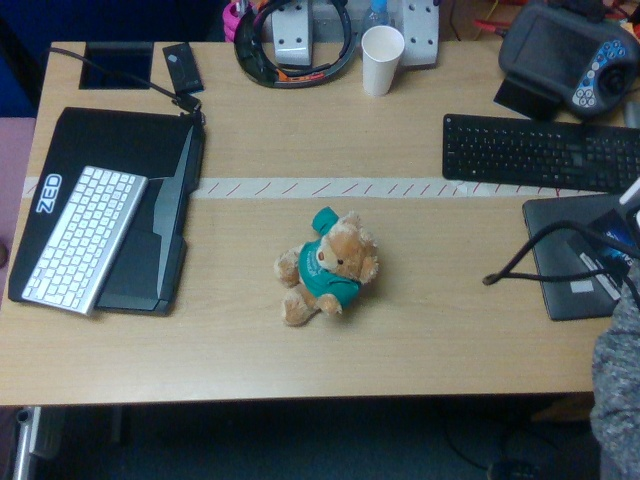teddy: (274, 206, 378, 326)
